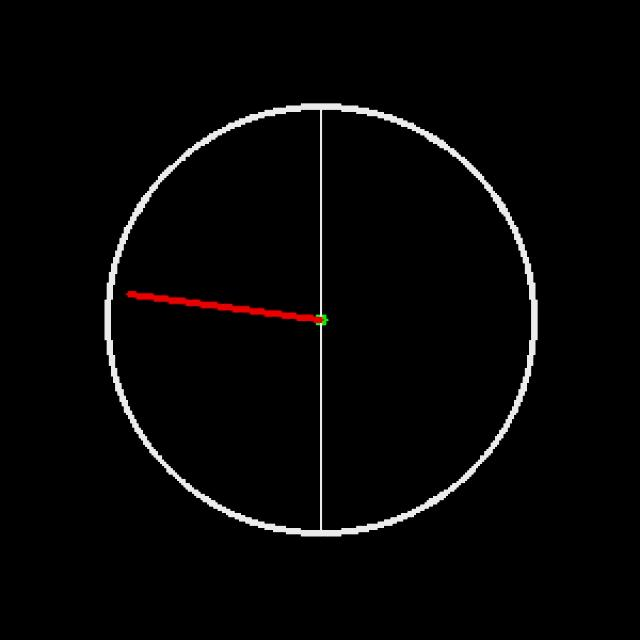Needle_Tip: (115, 274, 162, 315)
Needle_base: (299, 284, 361, 357)
